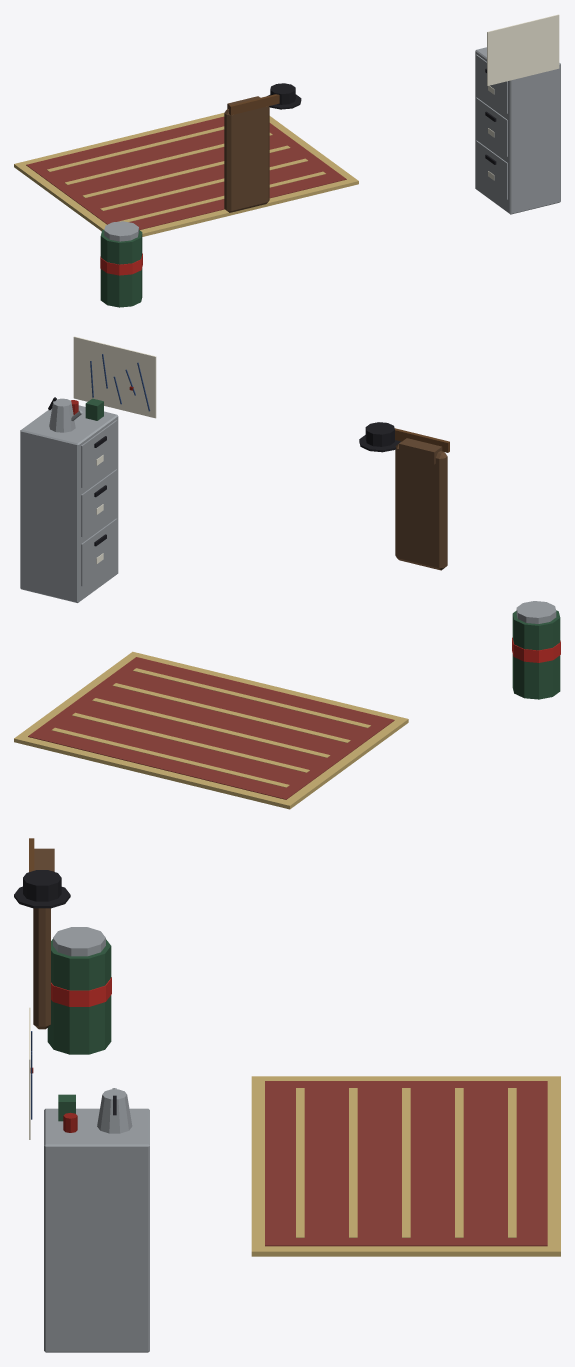
File: room.clutter.glb
The picture shows the model from 3 angles, top to bottom: view 1: azimuth 30°, elevation 25°; view 2: azimuth 150°, elevation 25°; view 3: azimuth 270°, elevation 25°; orthographic projection. The views are drawn at different scales.
Visible parts, largest first — view 1: rug, cabinet, coat, rug-edge, map, heater, cab-drawer2, cab-drawer1, cab-drawer0, rug-stripe0, rug-stripe2, rug-stripe1 (+6 smaller); view 2: rug, cabinet, rug-edge, coat, map, heater, cab-drawer1, cab-drawer0, cab-drawer2, rug-stripe2, rug-stripe0, rug-stripe1 (+7 smaller); view 3: rug, cabinet, rug-edge, heater, coat, rug-stripe0, rug-stripe1, rug-stripe2, rug-stripe3, rug-stripe4, heater-top, kettle (+2 smaller).
Boxes of the visible parts, bbox=[...] form: rug: bbox=[26, 116, 346, 229]; cabinet: bbox=[475, 47, 560, 214]; coat: bbox=[224, 106, 269, 212]; rug-edge: bbox=[14, 113, 358, 236]; map: bbox=[487, 14, 559, 85]; heater: bbox=[100, 229, 142, 307]; cab-drawer2: bbox=[476, 140, 507, 199]; cab-drawer1: bbox=[476, 97, 507, 156]; cab-drawer0: bbox=[476, 54, 507, 113]; rug-stripe0: bbox=[47, 126, 224, 171]; rug-stripe2: bbox=[82, 145, 290, 197]; rug-stripe1: bbox=[65, 133, 272, 184]; rug: bbox=[28, 657, 394, 799]; cabinet: bbox=[20, 405, 118, 602]; rug-edge: bbox=[14, 651, 408, 809]; coat: bbox=[395, 442, 447, 570]; map: bbox=[73, 336, 156, 418]; heater: bbox=[512, 610, 560, 699]; cab-drawer1: bbox=[81, 469, 117, 536]; cab-drawer0: bbox=[81, 420, 117, 487]; cab-drawer2: bbox=[81, 518, 117, 586]; rug-stripe2: bbox=[92, 698, 330, 757]; rug-stripe0: bbox=[51, 727, 289, 787]; rug-stripe1: bbox=[72, 712, 309, 772]; rug: bbox=[265, 1081, 547, 1246]; cabinet: bbox=[44, 1108, 149, 1352]; rug-edge: bbox=[251, 1076, 560, 1256]; heater: bbox=[47, 939, 111, 1054]; coat: bbox=[33, 908, 50, 1029]; rug-stripe0: bbox=[508, 1088, 516, 1237]; rug-stripe1: bbox=[455, 1088, 463, 1237]; rug-stripe2: bbox=[402, 1088, 410, 1237]; rug-stripe3: bbox=[349, 1088, 357, 1237]; rug-stripe4: bbox=[296, 1088, 304, 1237]; heater-top: bbox=[53, 927, 105, 956]; kettle: bbox=[97, 1089, 132, 1133].
Size of the model in its own units: 4.35 by 1.8 by 3.09.
